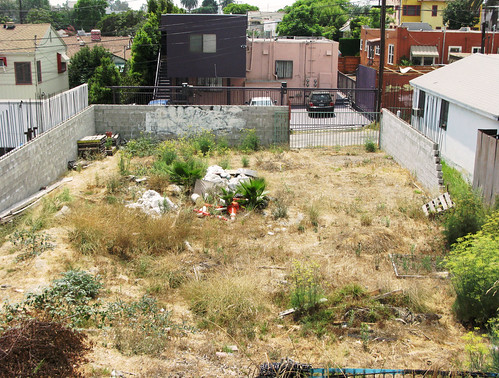building: (154, 16, 331, 100), (349, 23, 499, 111), (402, 49, 499, 171), (1, 21, 68, 110)
trash: (81, 135, 278, 258)
